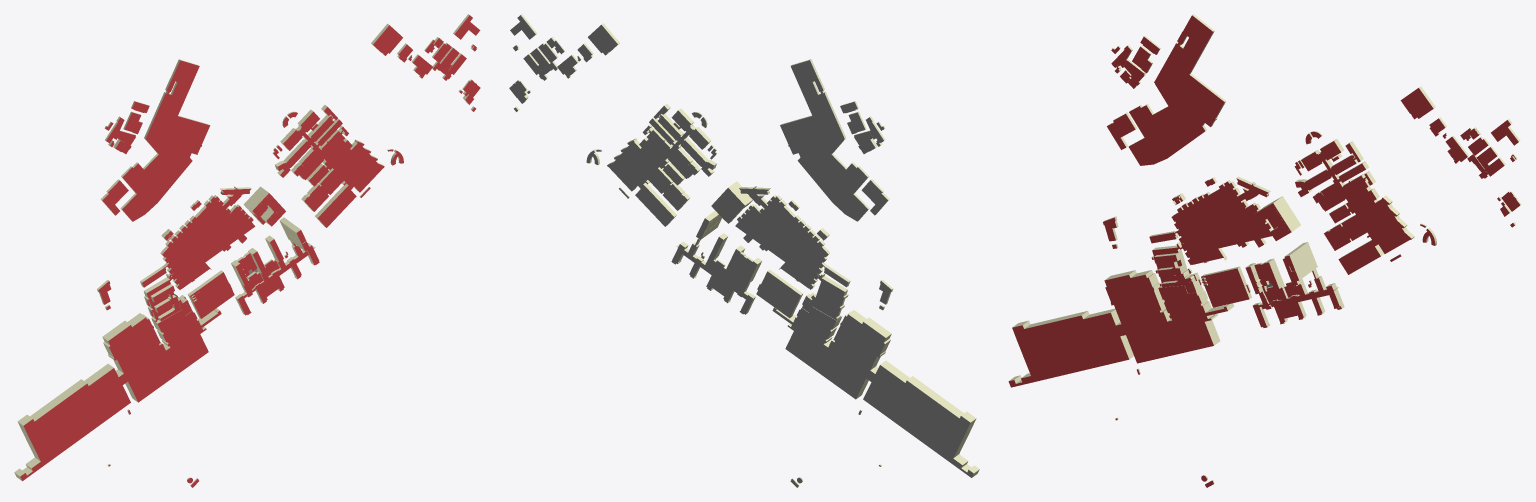
3 renders of one model, left to right at view 1: azimuth 30°, elevation 25°; view 2: azimuth 150°, elevation 25°; view 3: azimuth 330°, elevation 25°, orthographic. The views are drawn at different scales.
Parts seen in each view (by area): view 1: NL.IMBAG.Pand.0861100000371444-8, NL.IMBAG.Pand.0861100000364265-35, NL.IMBAG.Pand.0861100000370693-19, NL.IMBAG.Pand.0861100000375466-27, NL.IMBAG.Pand.0861100000371564-9, NL.IMBAG.Pand.0861100000371443-6, NL.IMBAG.Pand.0861100000422323-5, NL.IMBAG.Pand.0861100000428609-29, NL.IMBAG.Pand.0861100000425672-36; view 2: NL.IMBAG.Pand.0861100000371444-8, NL.IMBAG.Pand.0861100000364265-35, NL.IMBAG.Pand.0861100000370693-19, NL.IMBAG.Pand.0861100000375466-27, NL.IMBAG.Pand.0861100000371564-9, NL.IMBAG.Pand.0861100000422323-5, NL.IMBAG.Pand.0861100000371443-6, NL.IMBAG.Pand.0861100000428609-29, NL.IMBAG.Pand.0861100000425672-36; view 3: NL.IMBAG.Pand.0861100000371444-8, NL.IMBAG.Pand.0861100000364265-35, NL.IMBAG.Pand.0861100000370693-19, NL.IMBAG.Pand.0861100000375466-27, NL.IMBAG.Pand.0861100000371564-9, NL.IMBAG.Pand.0861100000422323-5, NL.IMBAG.Pand.0861100000371443-6, NL.IMBAG.Pand.0861100000428609-29, NL.IMBAG.Pand.0861100000374406-24, NL.IMBAG.Pand.0861100000425672-36, NL.IMBAG.Pand.0861100000369203-20.
Part boxes in pixels (x1,y1,x2,y2): NL.IMBAG.Pand.0861100000371444-8: (14, 308, 221, 481); NL.IMBAG.Pand.0861100000364265-35: (275, 105, 384, 227); NL.IMBAG.Pand.0861100000370693-19: (120, 59, 210, 221); NL.IMBAG.Pand.0861100000375466-27: (140, 186, 255, 289); NL.IMBAG.Pand.0861100000371564-9: (231, 239, 319, 315); NL.IMBAG.Pand.0861100000371443-6: (143, 273, 191, 321); NL.IMBAG.Pand.0861100000422323-5: (189, 270, 234, 318); NL.IMBAG.Pand.0861100000428609-29: (243, 186, 285, 226); NL.IMBAG.Pand.0861100000425672-36: (371, 23, 402, 55); NL.IMBAG.Pand.0861100000371444-8: (772, 307, 979, 477); NL.IMBAG.Pand.0861100000364265-35: (607, 103, 716, 226); NL.IMBAG.Pand.0861100000370693-19: (780, 59, 869, 221); NL.IMBAG.Pand.0861100000375466-27: (735, 186, 850, 289); NL.IMBAG.Pand.0861100000371564-9: (671, 237, 761, 314); NL.IMBAG.Pand.0861100000422323-5: (756, 269, 801, 318); NL.IMBAG.Pand.0861100000371443-6: (802, 273, 848, 320); NL.IMBAG.Pand.0861100000428609-29: (711, 181, 752, 223); NL.IMBAG.Pand.0861100000425672-36: (588, 23, 619, 55); NL.IMBAG.Pand.0861100000371444-8: (1008, 270, 1234, 387); NL.IMBAG.Pand.0861100000364265-35: (1295, 139, 1414, 274); NL.IMBAG.Pand.0861100000370693-19: (1128, 14, 1226, 165); NL.IMBAG.Pand.0861100000375466-27: (1149, 176, 1272, 264); NL.IMBAG.Pand.0861100000371564-9: (1245, 258, 1344, 327); NL.IMBAG.Pand.0861100000422323-5: (1201, 266, 1251, 307); NL.IMBAG.Pand.0861100000371443-6: (1151, 242, 1202, 293); NL.IMBAG.Pand.0861100000428609-29: (1255, 196, 1300, 240); NL.IMBAG.Pand.0861100000374406-24: (1284, 242, 1317, 281); NL.IMBAG.Pand.0861100000425672-36: (1400, 86, 1435, 119); NL.IMBAG.Pand.0861100000369203-20: (1107, 112, 1137, 149).
Size of the model in its own units: 1251 by 1108 by 81.02.
